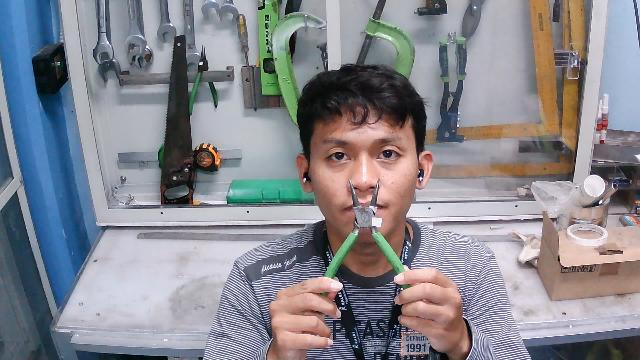tang_cucut_lancip_1: (312, 175, 417, 310)
